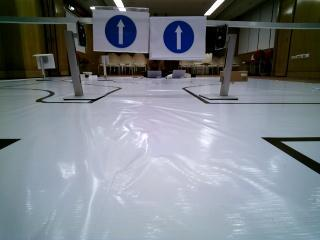straight: (93, 6, 149, 52), (149, 16, 207, 59)
